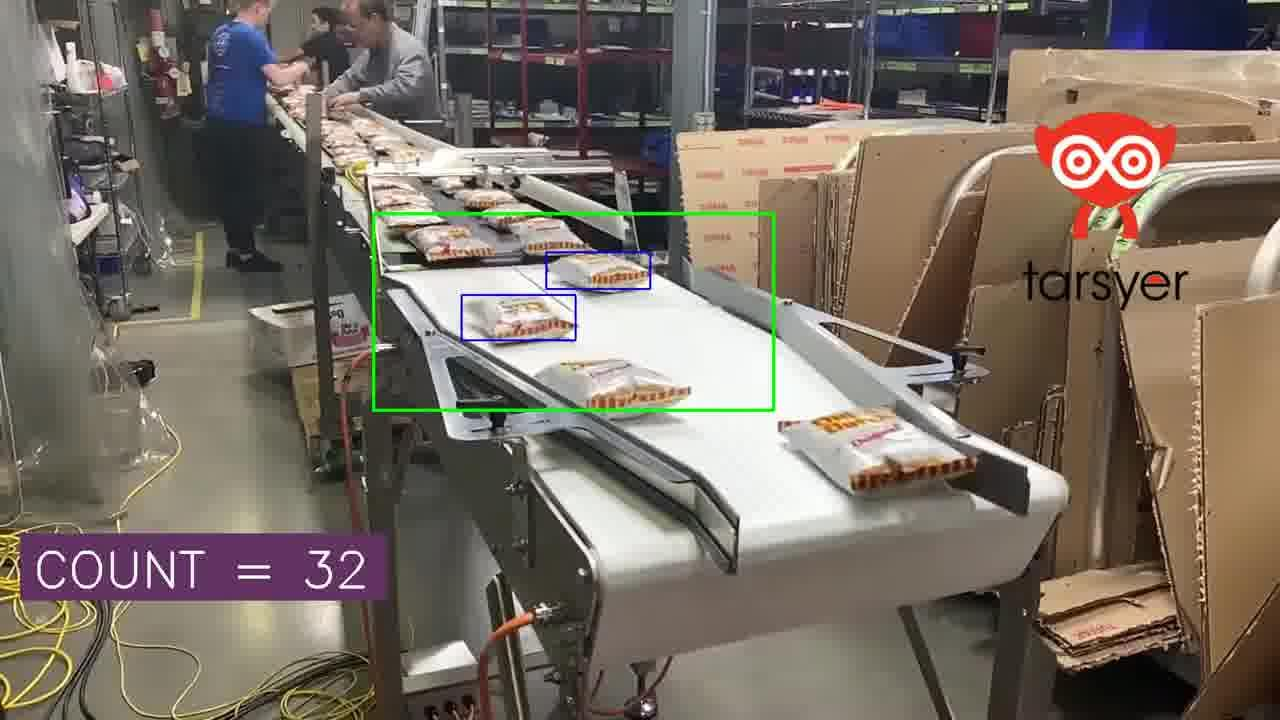Snack: (779, 408, 975, 492), (536, 359, 690, 410), (472, 296, 573, 341), (549, 253, 650, 290), (404, 225, 495, 263), (373, 187, 446, 231), (511, 217, 591, 256), (380, 203, 447, 233), (482, 203, 542, 229), (372, 187, 433, 211), (455, 188, 515, 210), (375, 143, 428, 165), (368, 177, 420, 193), (350, 117, 386, 139), (433, 176, 467, 195)
